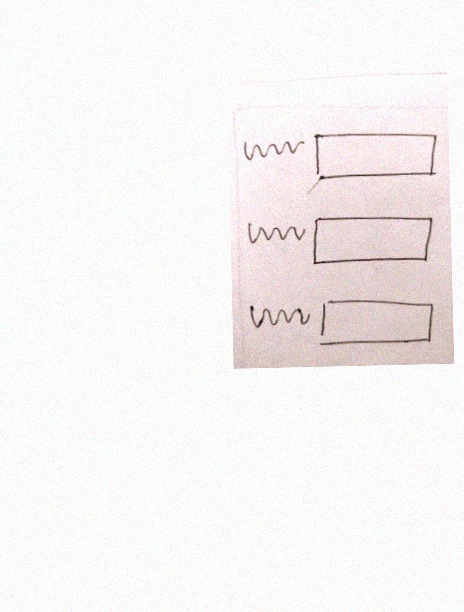text: (247, 300, 312, 336), (245, 217, 307, 254), (240, 134, 306, 163)
text_input: (311, 123, 442, 184), (310, 212, 439, 268), (317, 293, 437, 352)
